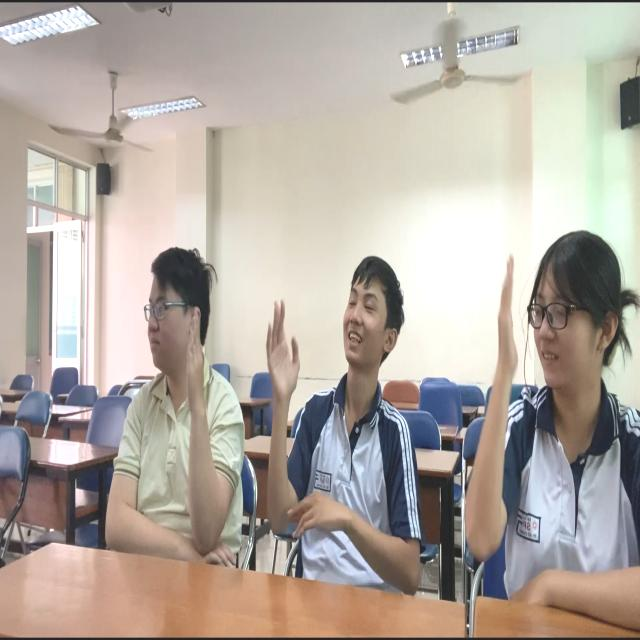raise_hand: (453, 223, 640, 640), (106, 249, 249, 573)
